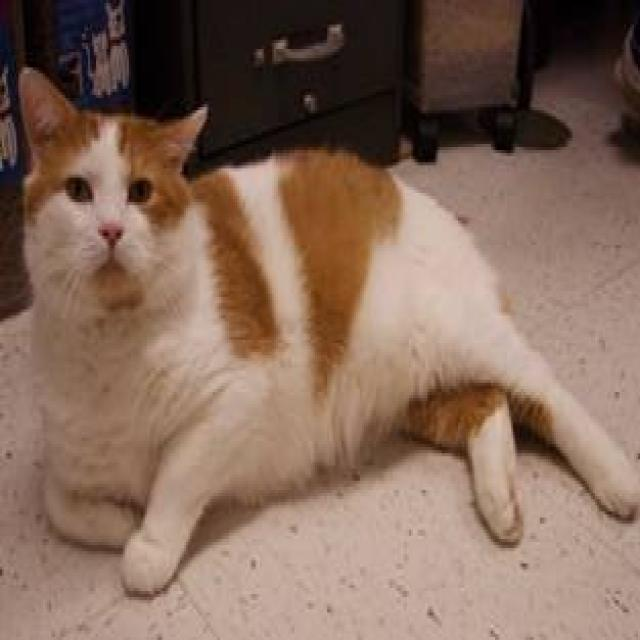cat: (16, 61, 638, 597)
